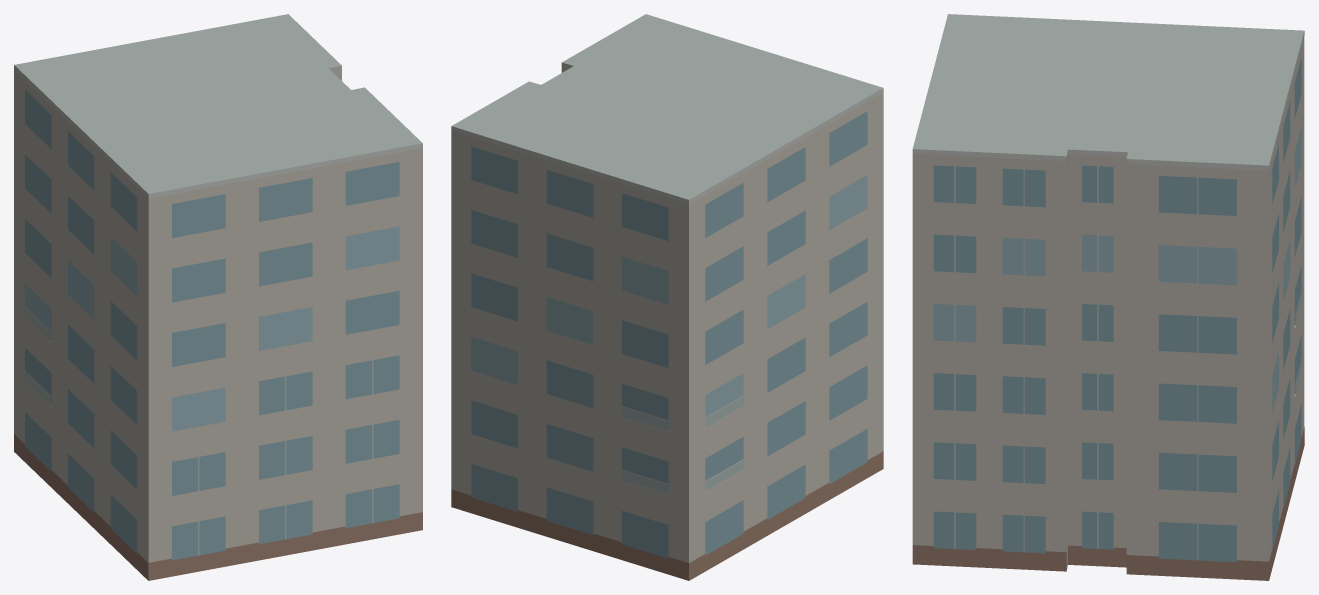
File: survey-upis-32566764.glb
The picture shows the model from 3 angles, left to right: view 1: azimuth 30°, elevation 25°; view 2: azimuth 150°, elevation 25°; view 3: azimuth 270°, elevation 25°; orthographic projection. The views are drawn at different scales.
Parts seen in each view (by area): view 1: survey-upis-32566764.tmp; view 2: survey-upis-32566764.tmp; view 3: survey-upis-32566764.tmp.
Part boxes in pixels (x1=…): survey-upis-32566764.tmp: x1=14, y1=14, x2=422, y2=580; survey-upis-32566764.tmp: x1=451, y1=14, x2=883, y2=580; survey-upis-32566764.tmp: x1=912, y1=14, x2=1304, y2=580.
Bounding box in the file's own units: 15.82 × 20.2 × 17.28.
